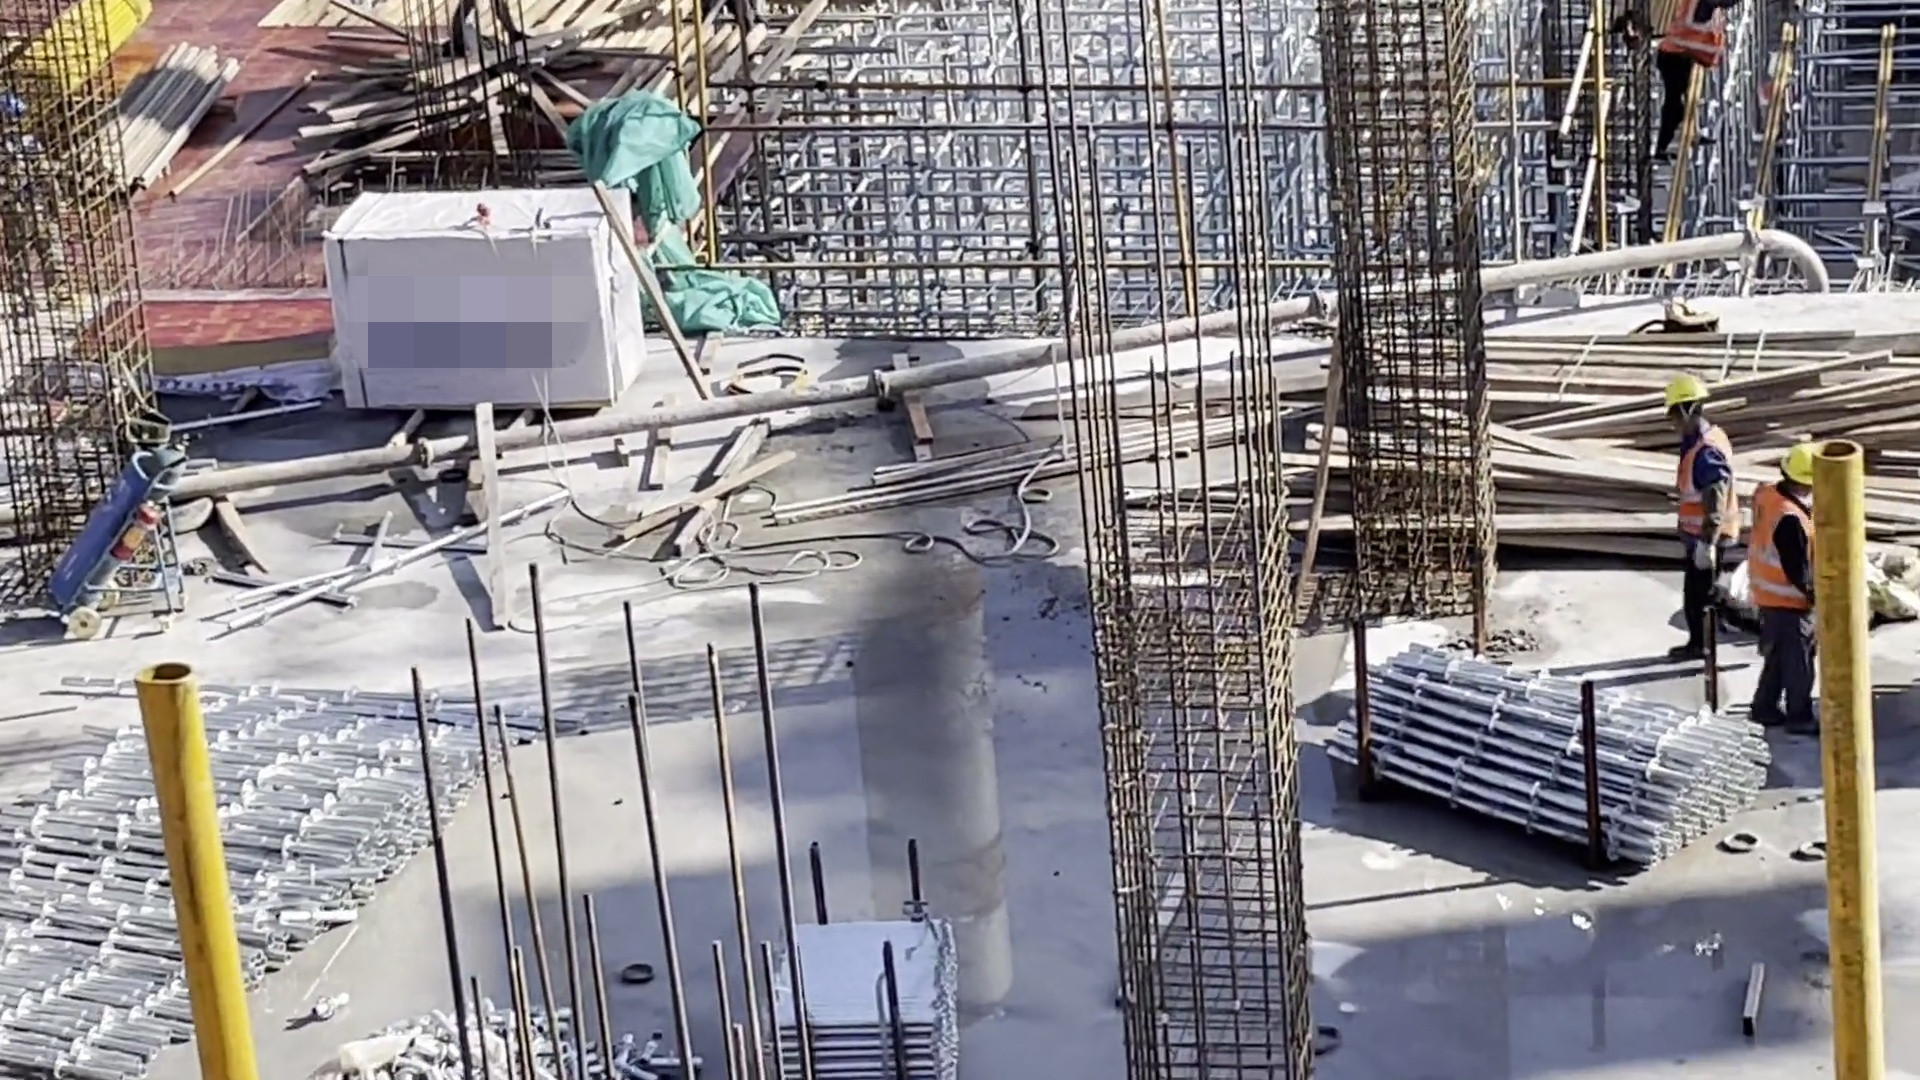helmet: (1661, 371, 1716, 406), (1783, 444, 1822, 481)
person: (1658, 366, 1741, 668), (1749, 432, 1828, 739), (1654, 1, 1733, 171)
scaffold: (1, 673, 486, 1080), (1320, 616, 1778, 900), (764, 911, 967, 1080)
vest: (1659, 426, 1737, 562), (1747, 482, 1818, 615), (1660, 1, 1726, 78)
wood: (1488, 318, 1920, 568)
